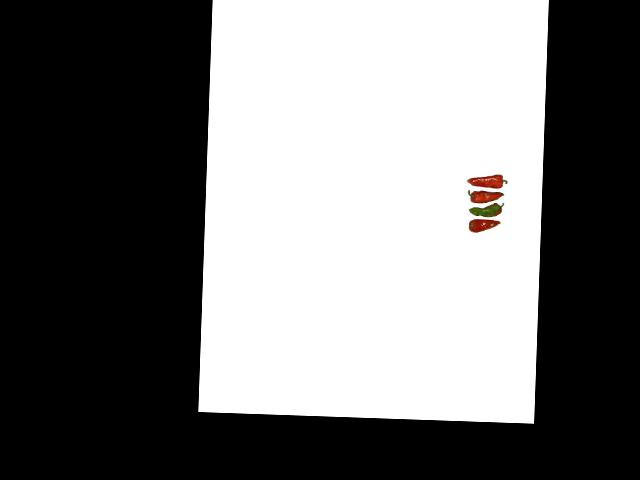bell_pepper: (467, 217, 503, 237)
